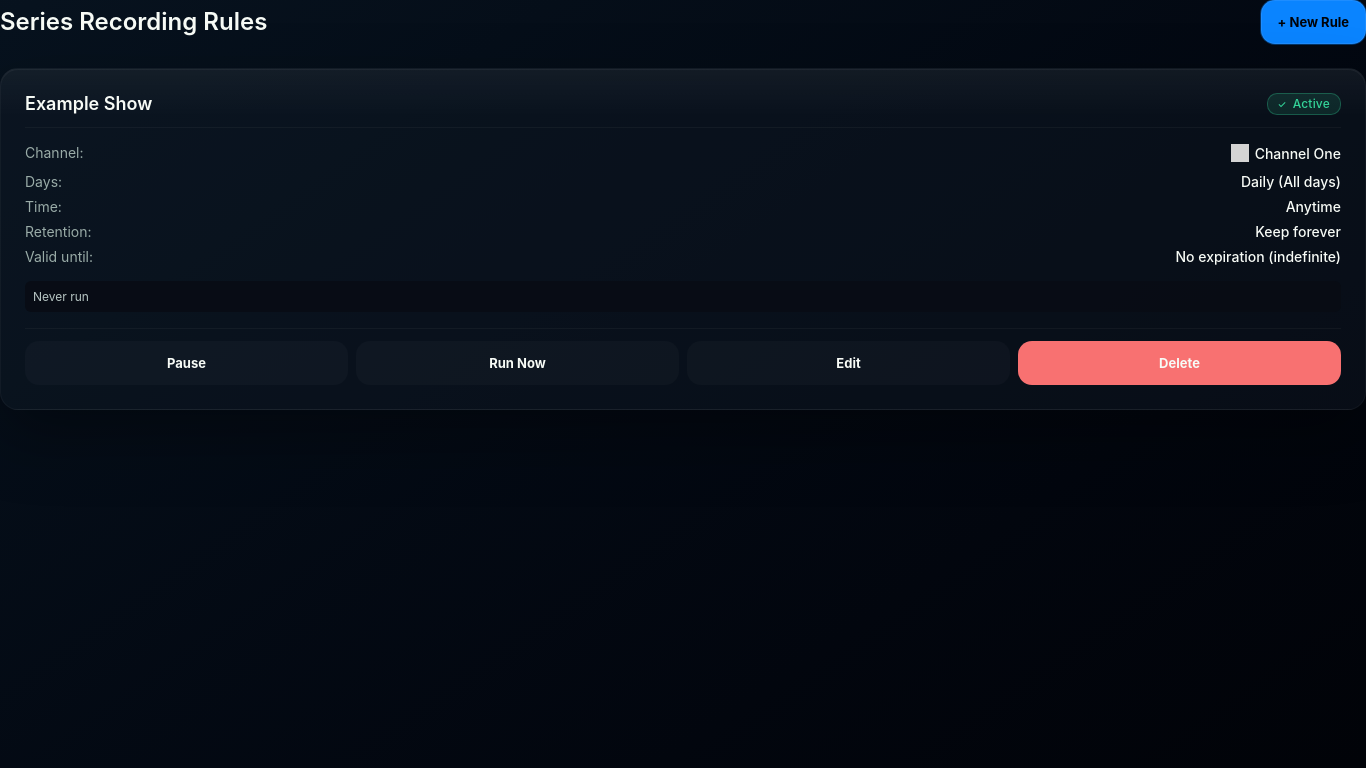
Scenario: SeriesManager channel ref matching and fallback (Item 2) › preselects the matching serviceRef in the edit dialog for a trailing-colon rule id
This screenshot has width=1366, height=768.
Expected: the text "Channel One" is shown, [1255,144,1341,162]
Click the button "Edit" at (848, 363), box [687,341,1010,385]
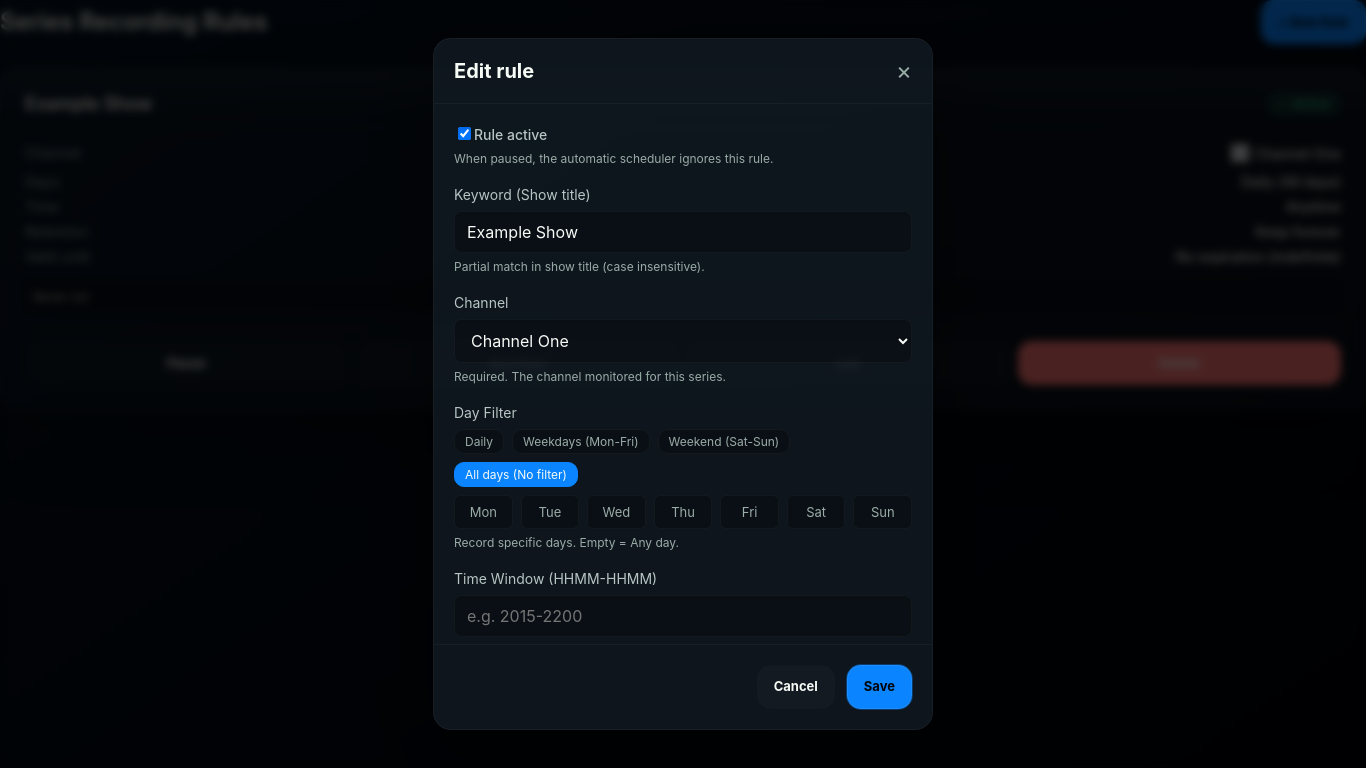
Now the dropdown with test id "series-edit-channel" shows "Channel One", box [454,319,912,363]
